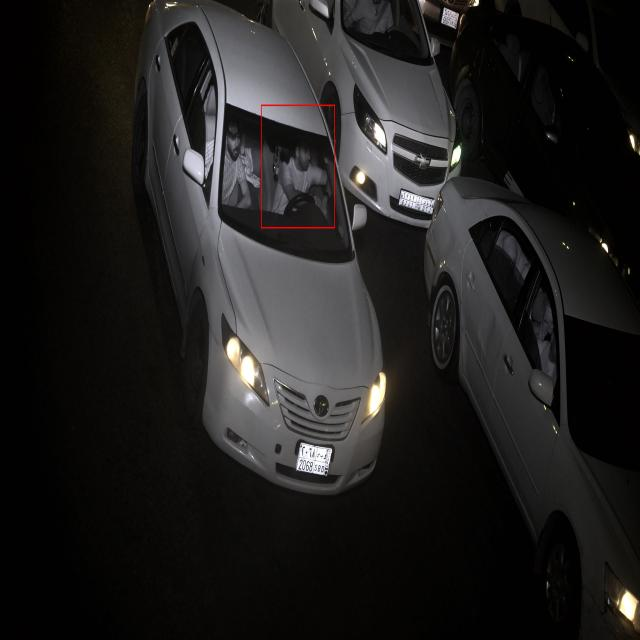windshield: (216, 101, 355, 267), (333, 0, 438, 79)
